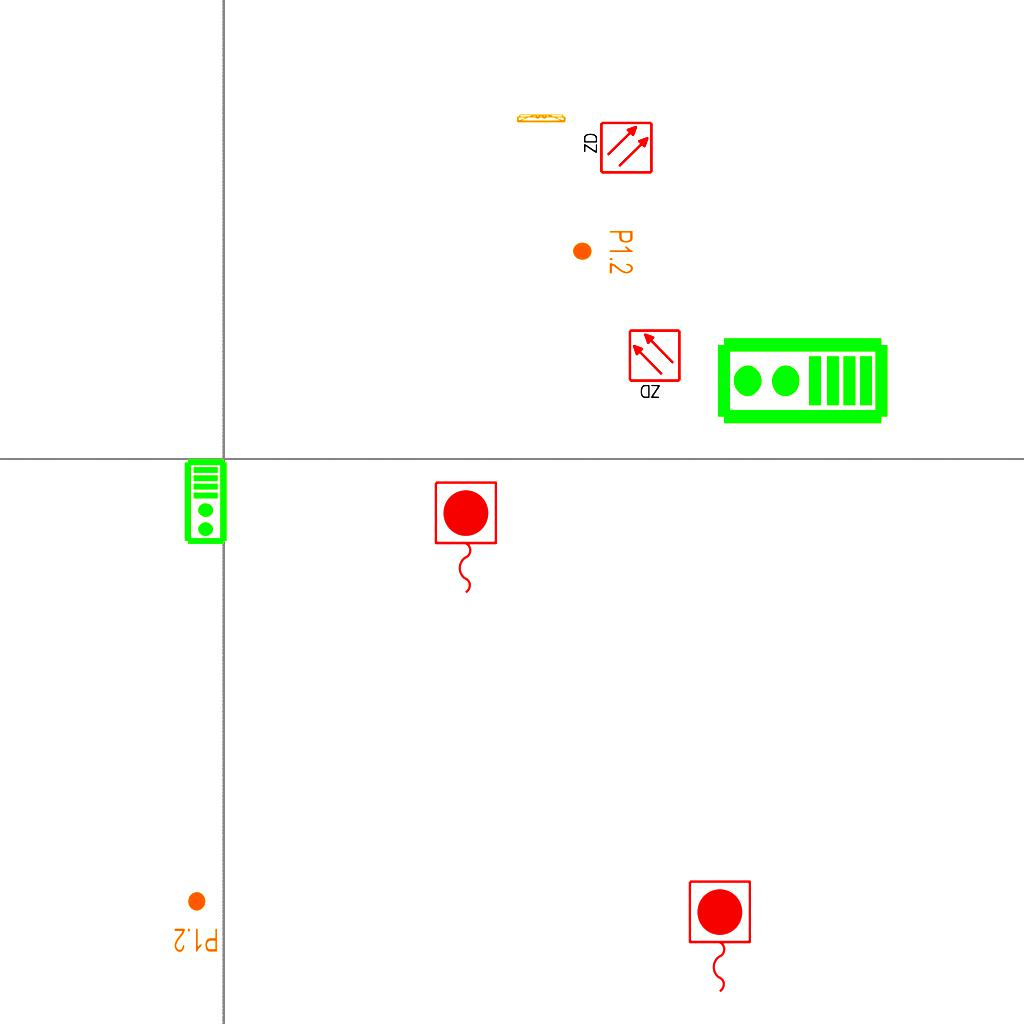Downlight_LED_Einbauleuchten_Flur: (571, 229, 635, 275), (173, 890, 219, 954)
Gegensprechanlage_mit_Video: (714, 335, 890, 430), (183, 458, 230, 546)
Sicherheitsleuchte_Wandeinbau: (514, 112, 593, 124)
ZD_Melder_in_Zwischendecke_mit_Revisionsoeffnung_mind_40_x_40_cm: (627, 328, 684, 402), (580, 120, 654, 177)
Zugtaster: (429, 477, 501, 599), (683, 876, 755, 998)
